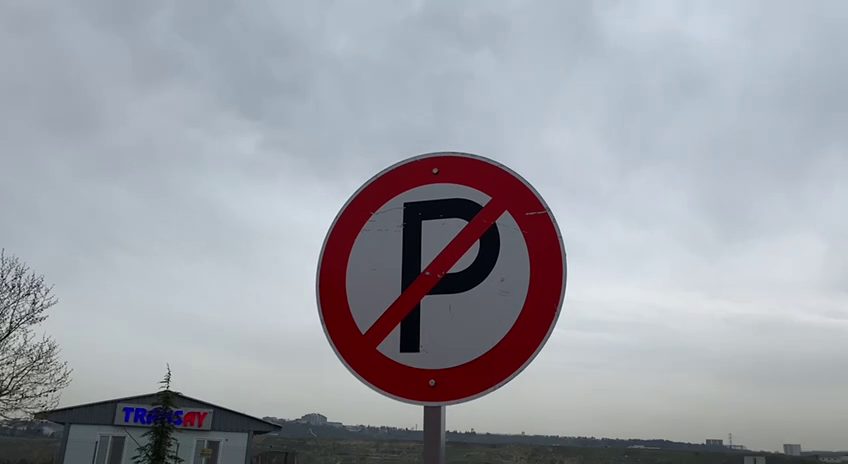noparking: (307, 145, 577, 414)
